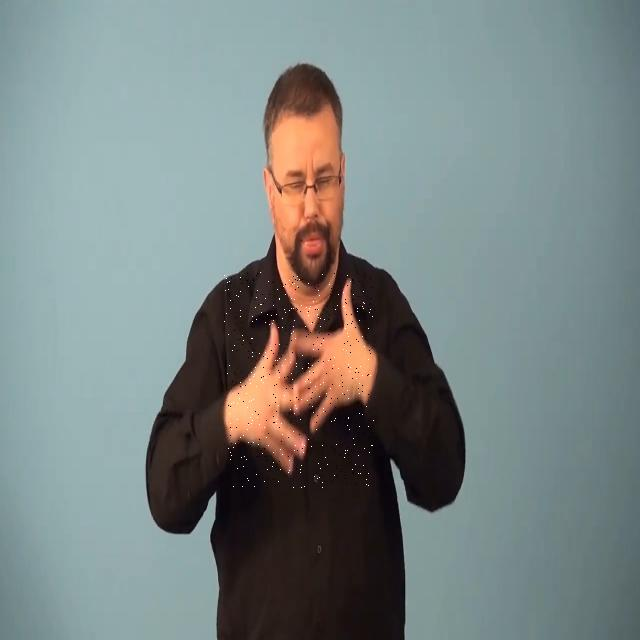juicy: (224, 272, 374, 488)
